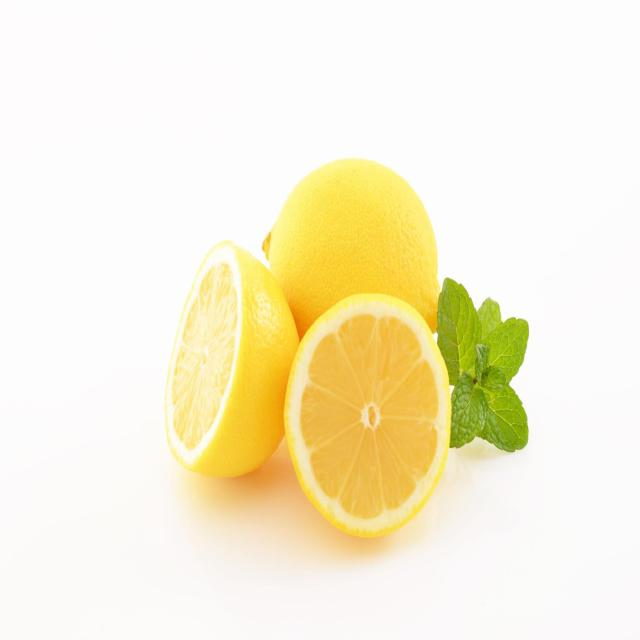lemon: (279, 287, 457, 545), (160, 236, 304, 484)
